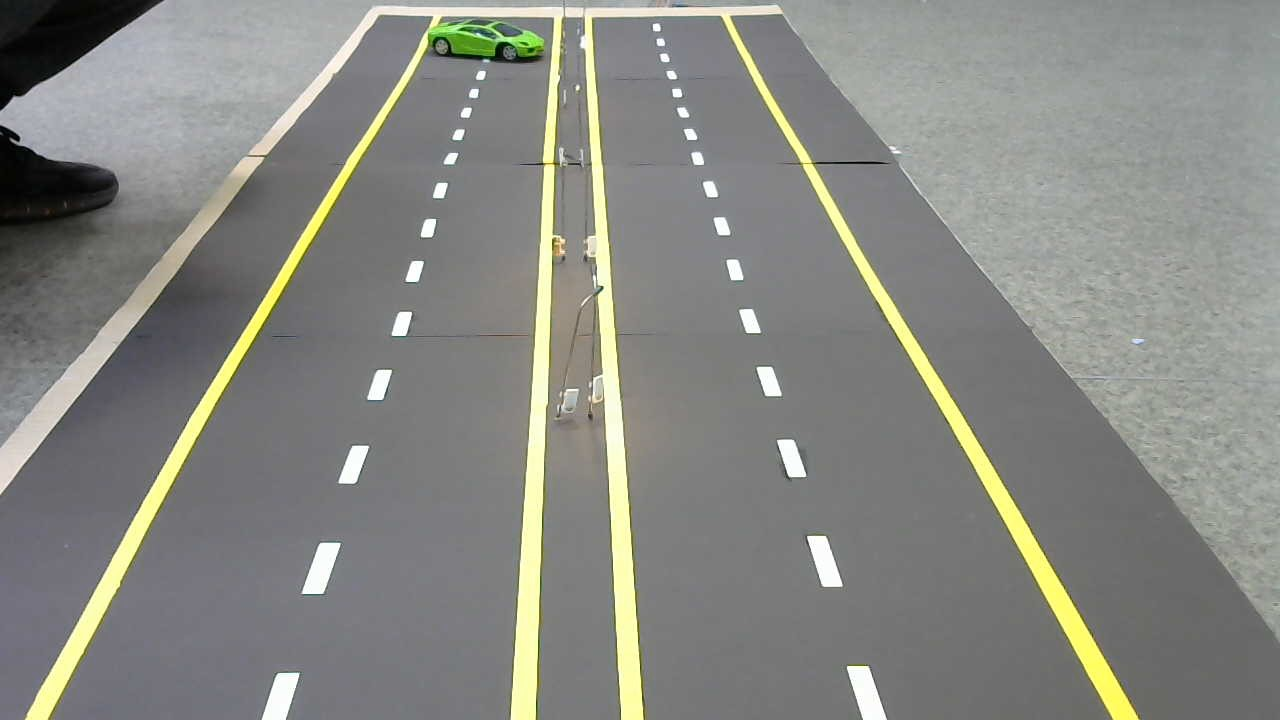overturn_car: (425, 17, 548, 67)
